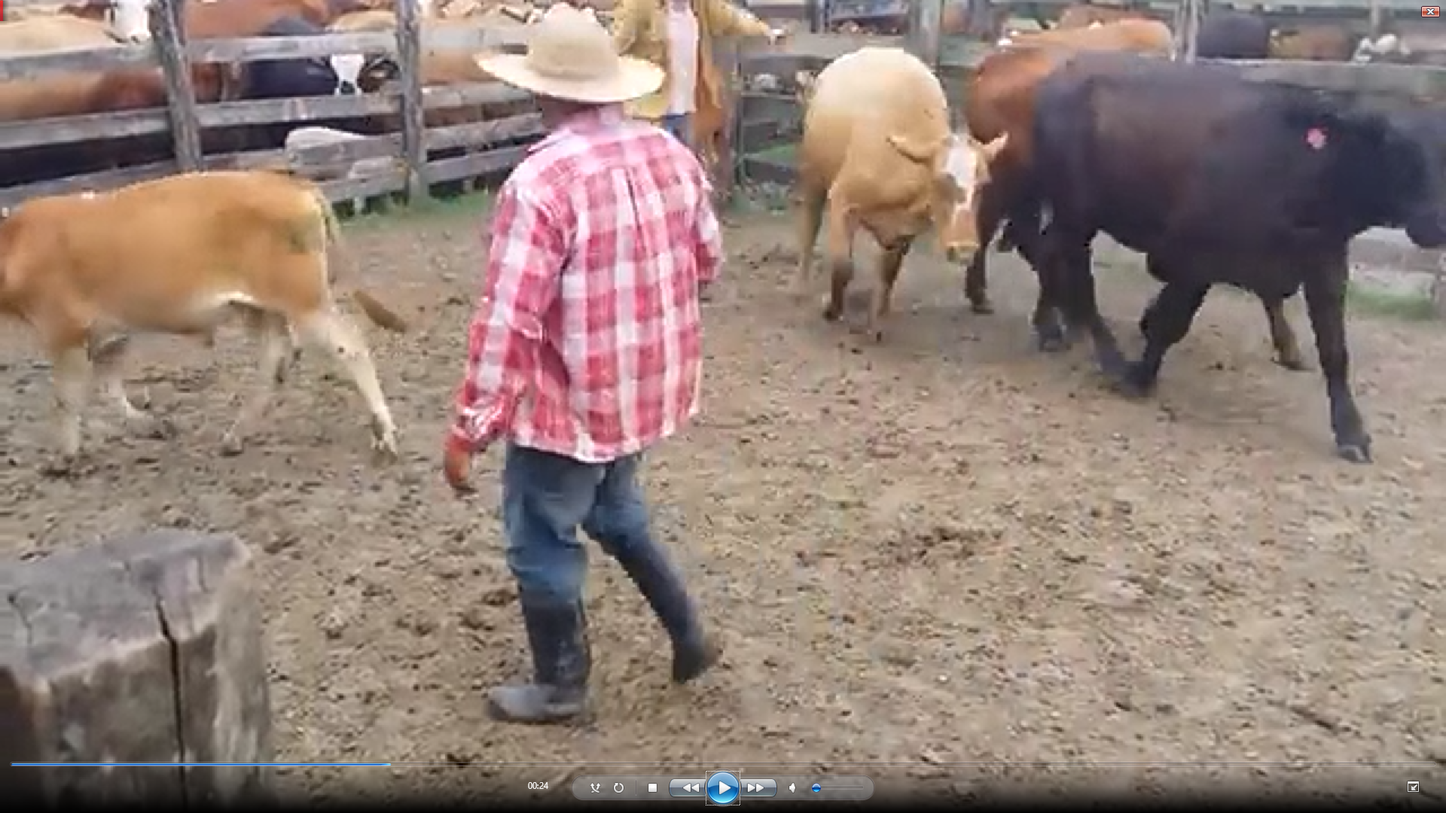bovino: (1048, 49, 1446, 462), (0, 167, 401, 460), (797, 44, 988, 335)
